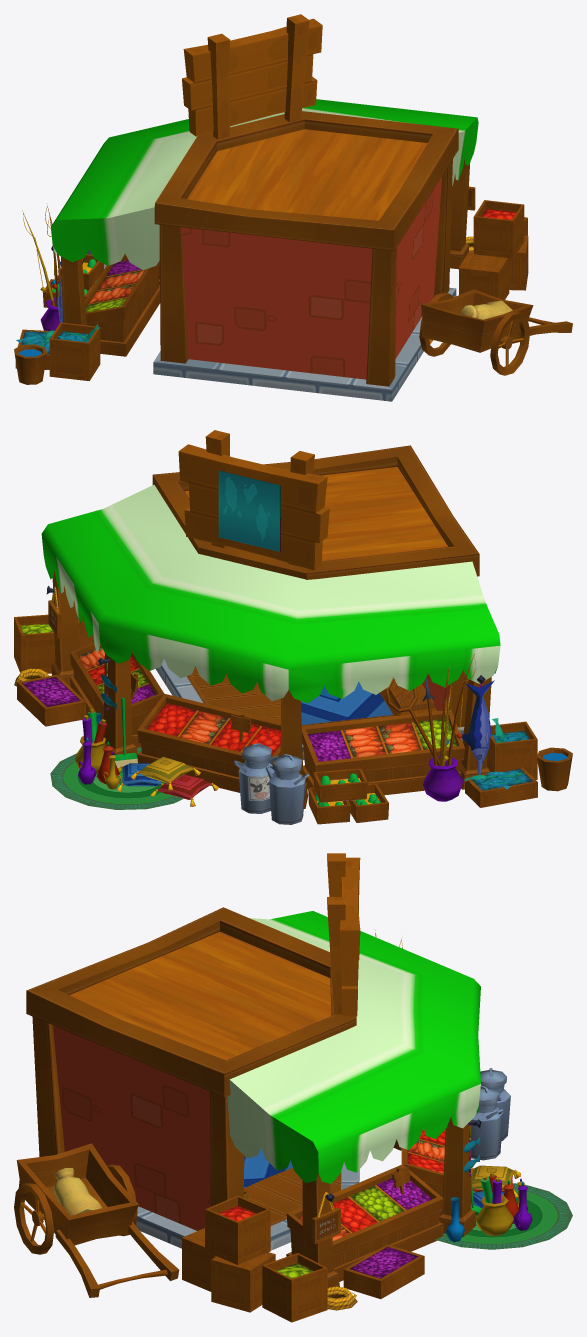
File: HOS1010004.fbx
3 views of the same model, one above another, from view 1: azimuth 30°, elevation 25°; view 2: azimuth 150°, elevation 25°; view 3: azimuth 270°, elevation 25° (orthographic). The views are drawn at different scales.
Visible parts, largest first — view 1: smHOS1010004; view 2: smHOS1010004; view 3: smHOS1010004.
Boxes of the visible parts, bbox=[...] form: smHOS1010004: bbox=[14, 14, 572, 401]; smHOS1010004: bbox=[14, 430, 572, 824]; smHOS1010004: bbox=[14, 853, 572, 1322].
Size of what is drawn, in the model's own units: 1002 by 514 by 836.
Materials: 1 (1 with a texture image).
